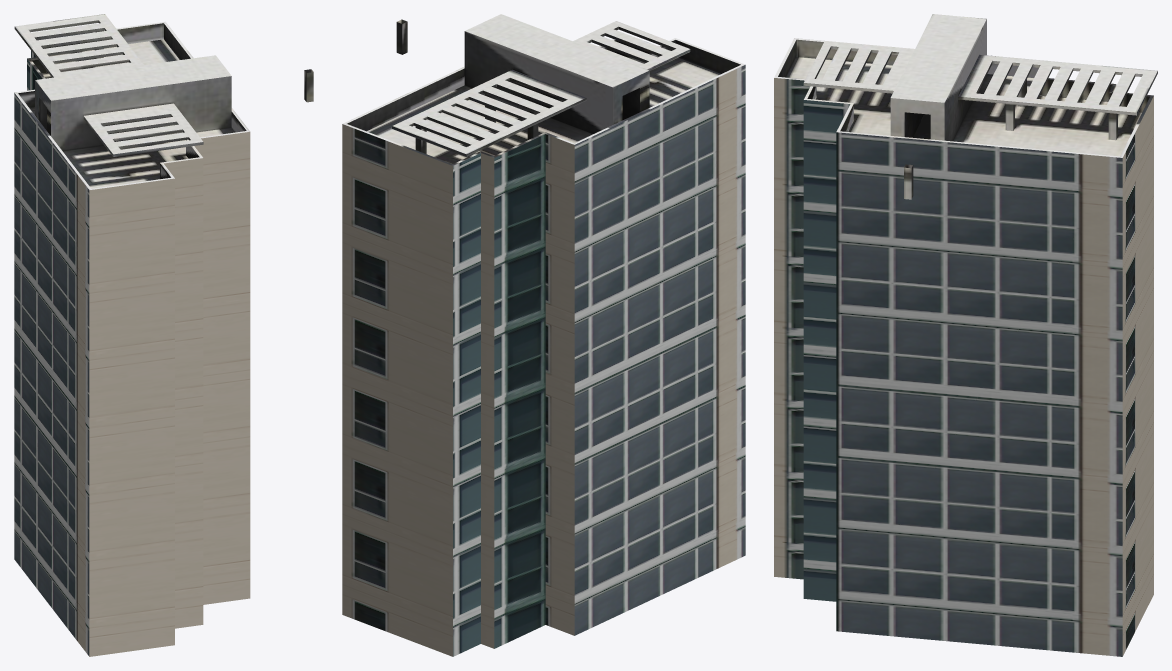
3 views of the same model, side by side, from view 1: azimuth 30°, elevation 25°; view 2: azimuth 150°, elevation 25°; view 3: azimuth 270°, elevation 25° (orthographic). The views are drawn at different scales.
Parts seen in each view (by area): view 1: JZ_JX_628; view 2: JZ_JX_628; view 3: JZ_JX_628.
Part boxes in pixels (x1,y1,x2,y2): JZ_JX_628: (14, 14, 313, 656); JZ_JX_628: (342, 14, 745, 656); JZ_JX_628: (774, 14, 1157, 656).
Bounding box in the file's own units: 1480 × 2564 × 1661.
2 materials, 2 textured.
